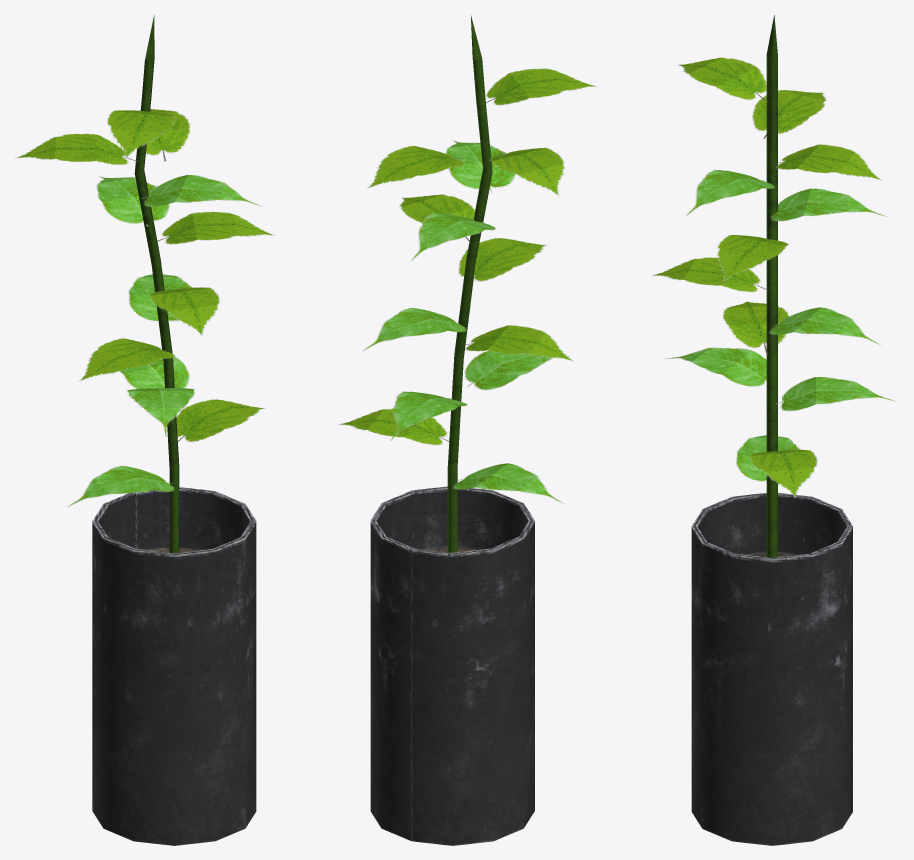
The model's file is plant.glb.
The picture shows the model from 3 angles, left to right: view 1: azimuth 30°, elevation 25°; view 2: azimuth 150°, elevation 25°; view 3: azimuth 270°, elevation 25°; orthographic projection.
Parts seen in each view (by area): view 1: plant-col; view 2: plant-col; view 3: plant-col.
Boxes of the visible parts, <box> form: plant-col: <box>15,15,275,845</box>; plant-col: <box>338,14,597,845</box>; plant-col: <box>652,15,896,845</box>.
Bounding box in the file's own units: 2.22 × 6.45 × 1.92.
1 material, 1 textured.
